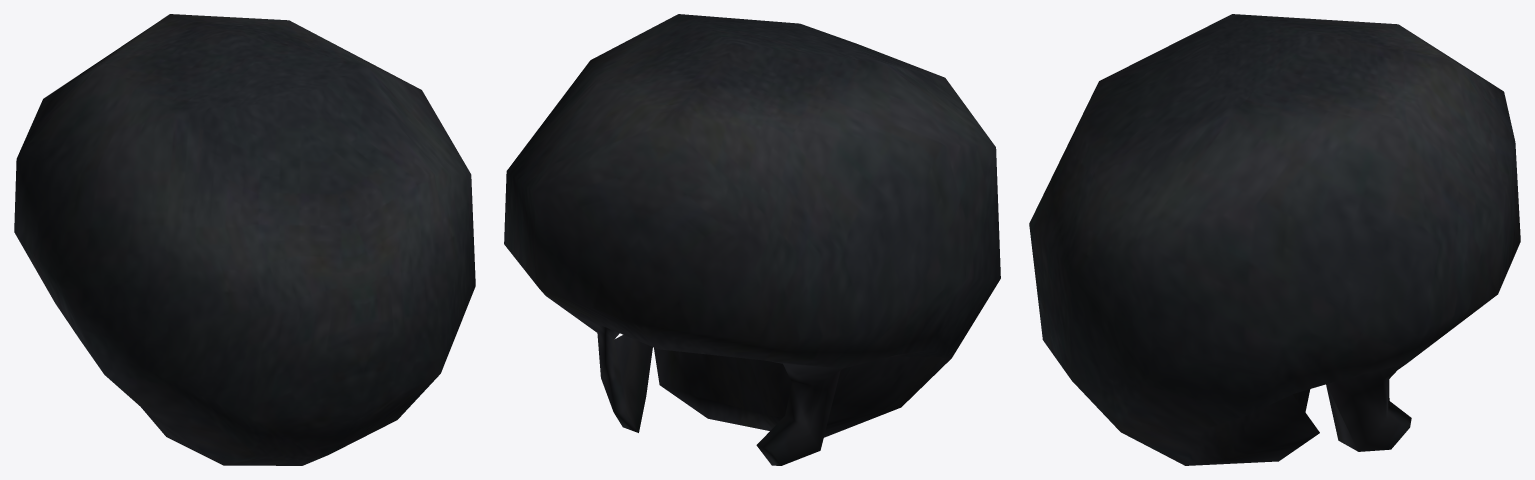
File: afro.glb
3 views of the same model, side by side, from view 1: azimuth 30°, elevation 25°; view 2: azimuth 150°, elevation 25°; view 3: azimuth 270°, elevation 25° (orthographic). The views are drawn at different scales.
Parts seen in each view (by area): view 1: afro; view 2: afro; view 3: afro.
Part boxes in pixels (bbox=[...]): afro: bbox=[14, 14, 475, 465]; afro: bbox=[504, 14, 1000, 465]; afro: bbox=[1029, 14, 1520, 465].
Size of the model in its own units: 0.4137 by 0.3942 by 0.4289.
1 material, 1 textured.
